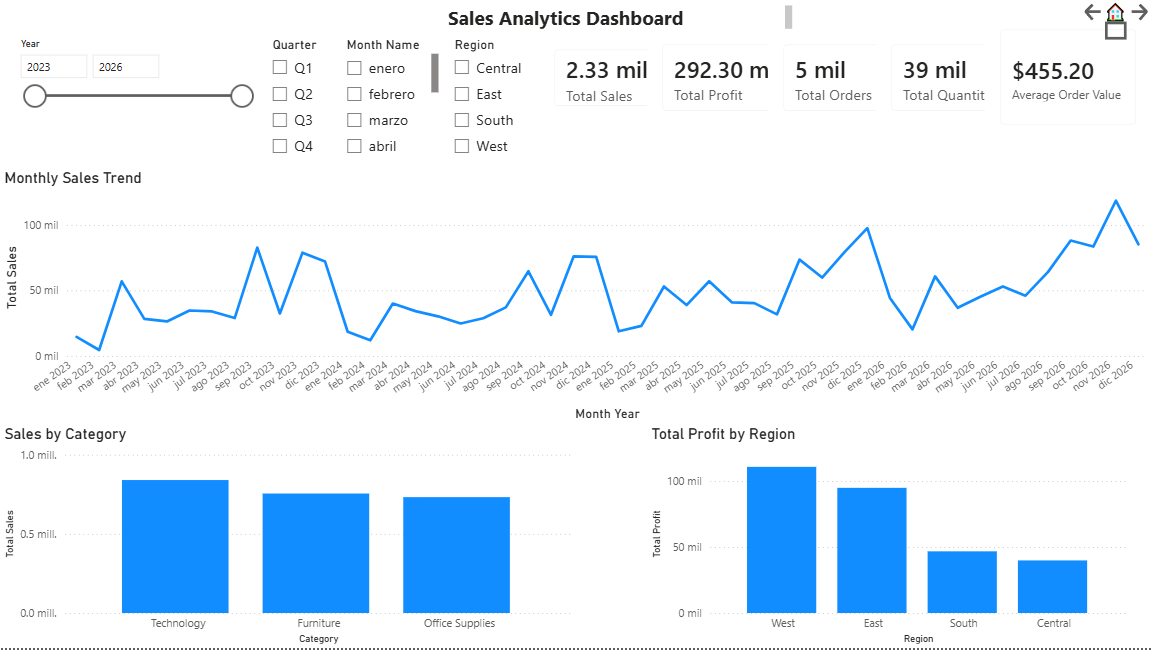

The page's visual inventory and layout, read from the dashboard file:
{"tool":"powerbi","page":{"name":"Sales Analytics Dashboard","canvas":[1280,720],"ordinal":2},"visuals":[{"type":"slicer","fields":{"Values":["Calendar.Year"]},"box":[9.8,36.8,279.8,112.9],"z":0},{"type":"slicer","fields":{"Values":["Calendar.Quarter"]},"box":[289.6,36.8,98.2,149.7],"z":1000},{"type":"slicer","fields":{"Values":["Calendar.Month Name"]},"box":[371.9,36.8,120.3,150.9],"z":2000},{"type":"slicer","fields":{"Values":["Orders.Region"]},"box":[492.1,36.8,106.8,149.7],"z":3000},{"type":"cardVisual","fields":{"Data":["Orders.Total Sales"]},"box":[599.1,37.4,166.7,98],"z":4000},{"type":"cardVisual","fields":{"Data":["Orders.Total Profit"]},"box":[719.3,32.3,182.9,108.1],"z":5000},{"type":"cardVisual","fields":{"Data":["Orders.Total Orders"]},"box":[853.7,32.3,174.8,108.1],"z":6000},{"type":"cardVisual","fields":{"Data":["Orders.Total Quantity"]},"box":[973.3,31.9,158.7,108.6],"z":7000},{"type":"lineChart","title":"Monthly Sales Trend","fields":{"Category":["Calendar.Month Year"],"Y":["Orders.Total Sales"]},"box":[0,187.8,1280,284.7],"z":8000},{"type":"clusteredColumnChart","title":"Sales by Category","fields":{"Category":["Orders.Category"],"Y":["Orders.Total Sales"]},"box":[0,472.5,640.6,247.9],"z":9000},{"type":"clusteredColumnChart","title":"Total Profit by Region","fields":{"Category":["Orders.Region"],"Y":["Orders.Total Profit"]},"box":[719.2,472.5,537.5,247.9],"z":10000},{"type":"textbox","box":[492.1,0,392.7,36.8],"z":11000},{"type":"cardVisual","fields":{"Data":["Orders.Average Order Value"]},"box":[1094.7,16,185.3,140.6],"z":12000},{"type":"actionButton","box":[1201,0,27,27],"z":13000},{"type":"actionButton","title":"🏠","box":[1228,0,24,44],"z":14000},{"type":"actionButton","box":[1252,0,28,27],"z":15000}]}

Visuals, with their boxes in screenshot pixels (x1, y1, x2, y2), scaled from the page's 1280x720 canvas onto the 1152x651 screenshot:
slicer - Calendar.Year: rect(9, 33, 261, 135)
slicer - Calendar.Quarter: rect(261, 33, 349, 169)
slicer - Calendar.Month Name: rect(335, 33, 443, 170)
slicer - Orders.Region: rect(443, 33, 539, 169)
cardVisual - Orders.Total Sales: rect(539, 34, 689, 122)
cardVisual - Orders.Total Profit: rect(647, 29, 812, 127)
cardVisual - Orders.Total Orders: rect(768, 29, 926, 127)
cardVisual - Orders.Total Quantity: rect(876, 29, 1019, 127)
"Monthly Sales Trend" lineChart: rect(0, 170, 1151, 427)
"Sales by Category" clusteredColumnChart: rect(0, 427, 577, 650)
"Total Profit by Region" clusteredColumnChart: rect(647, 427, 1131, 650)
textbox: rect(443, 0, 796, 33)
cardVisual - Orders.Average Order Value: rect(985, 14, 1151, 142)
actionButton: rect(1081, 0, 1105, 24)
"🏠" actionButton: rect(1105, 0, 1127, 40)
actionButton: rect(1127, 0, 1151, 24)
